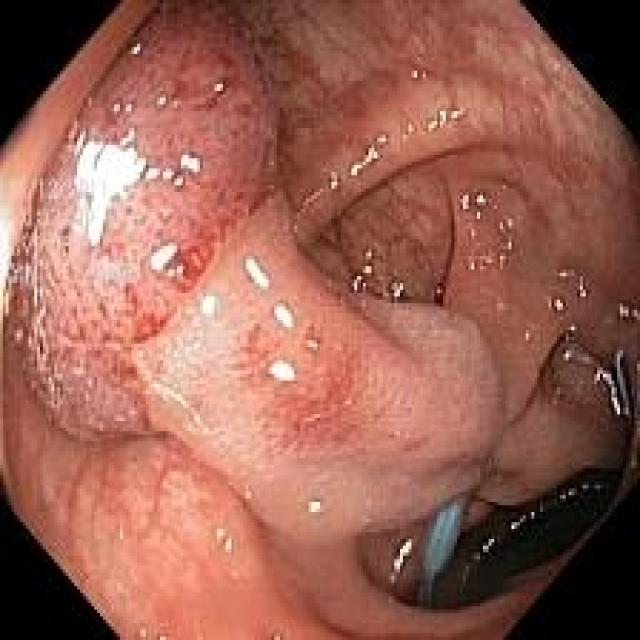Polyps: (8, 4, 504, 540)
